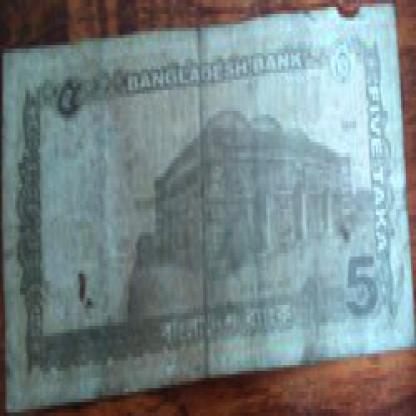Five Taka: (366, 83, 391, 250), (343, 246, 381, 323), (53, 66, 82, 128)
